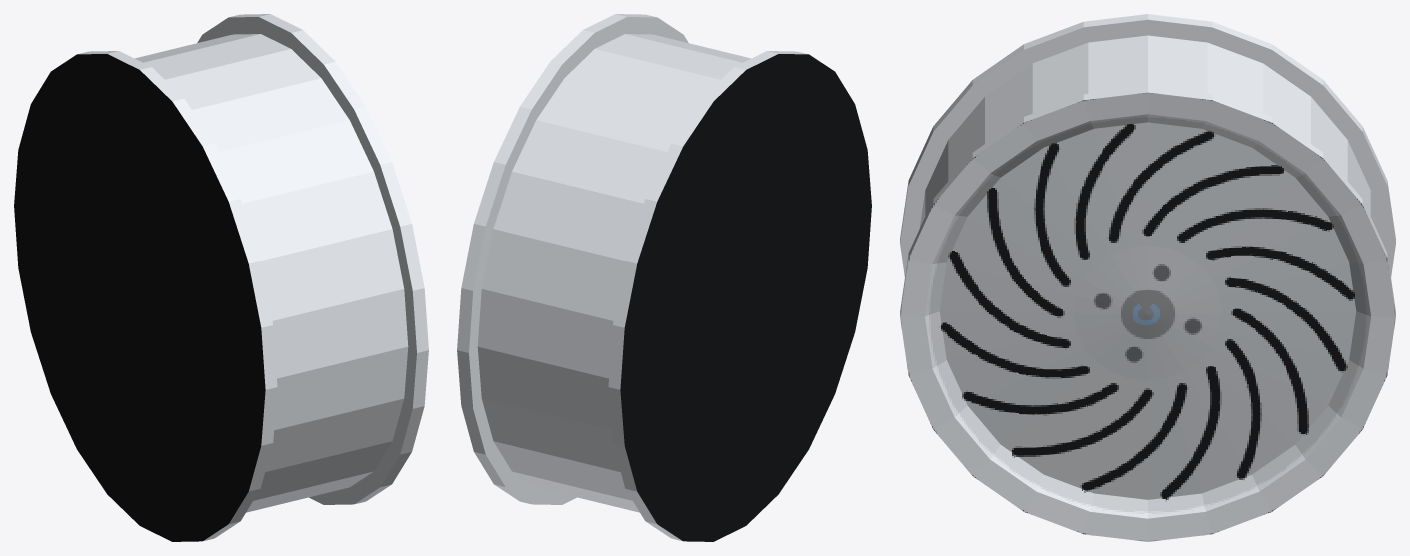
Rendered from catavento_helice_18.glb.
3 views of the same model, side by side, from view 1: azimuth 30°, elevation 25°; view 2: azimuth 150°, elevation 25°; view 3: azimuth 270°, elevation 25° (orthographic).
Visible parts, largest first — view 1: catavento_helice_18; view 2: catavento_helice_18; view 3: catavento_helice_18.
Part boxes in pixels (x1,y1,x2,y2): catavento_helice_18: [14, 14, 428, 541]; catavento_helice_18: [457, 14, 871, 541]; catavento_helice_18: [900, 14, 1395, 541].
Bounding box in the file's own units: 0.192 × 0.5121 × 0.5121.
Materials: 1 (1 with a texture image).
